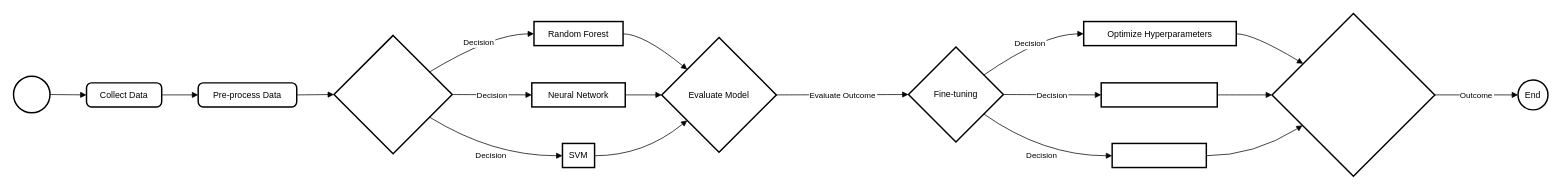
Image size: 1561x189. Some labels were removed from this diagram. The shapes that lost their labels are listed below. From the top down, each one's box as (x1, y1, x2, y2) in pixels, then its label:
(12, 75, 50, 113): Start
(333, 34, 453, 154): Model Selection
(1100, 82, 1218, 107): Feature Engineering
(1271, 12, 1435, 177): Evaluate Updated Model
(1111, 142, 1207, 168): Cross-validation
